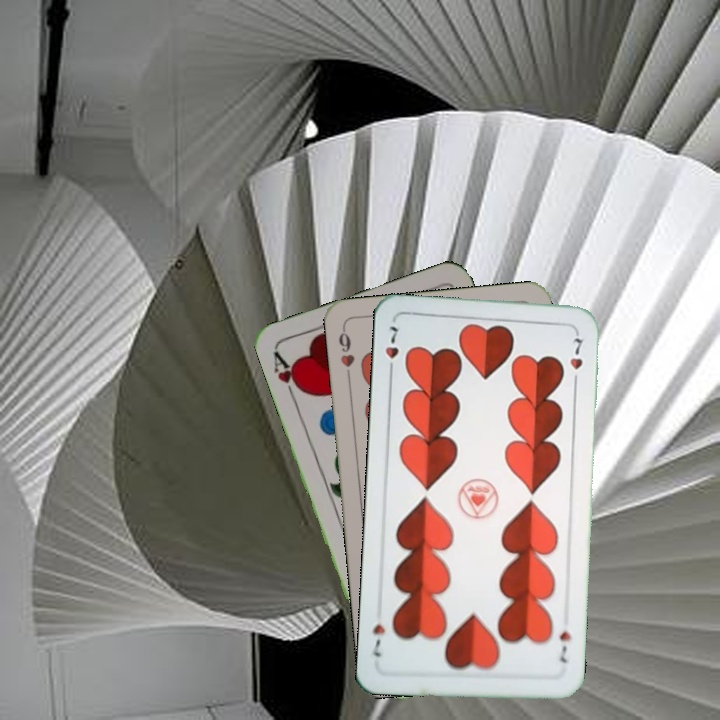H7: (381, 321, 401, 378), (555, 627, 573, 665)
H9: (334, 324, 358, 383)
HA: (269, 347, 306, 404)
